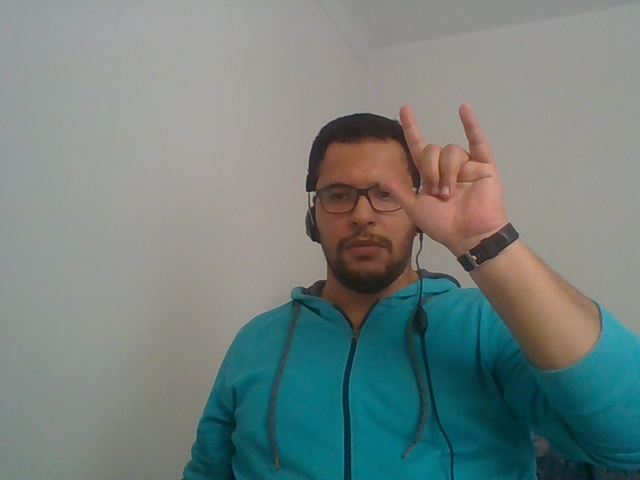iloveyou: (378, 92, 567, 313)
